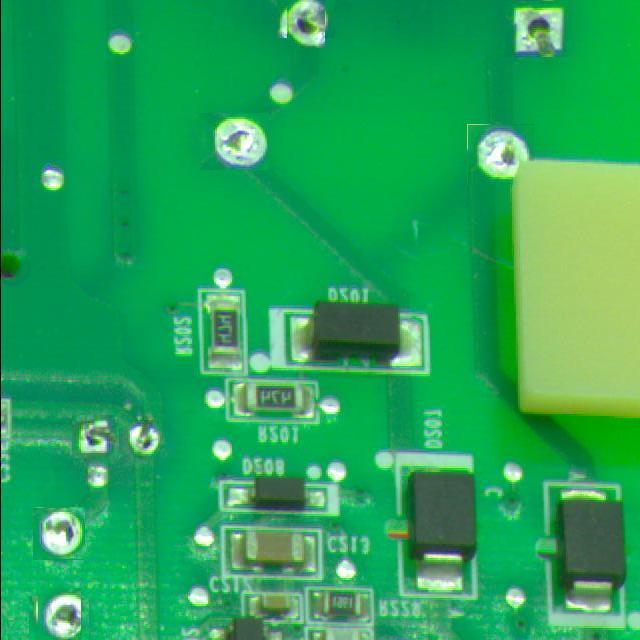lack_of_part: (467, 124, 534, 185), (199, 112, 269, 170), (505, 1, 569, 57), (32, 508, 84, 560), (33, 592, 85, 640), (121, 409, 163, 461), (73, 414, 118, 460), (282, 0, 330, 43)
